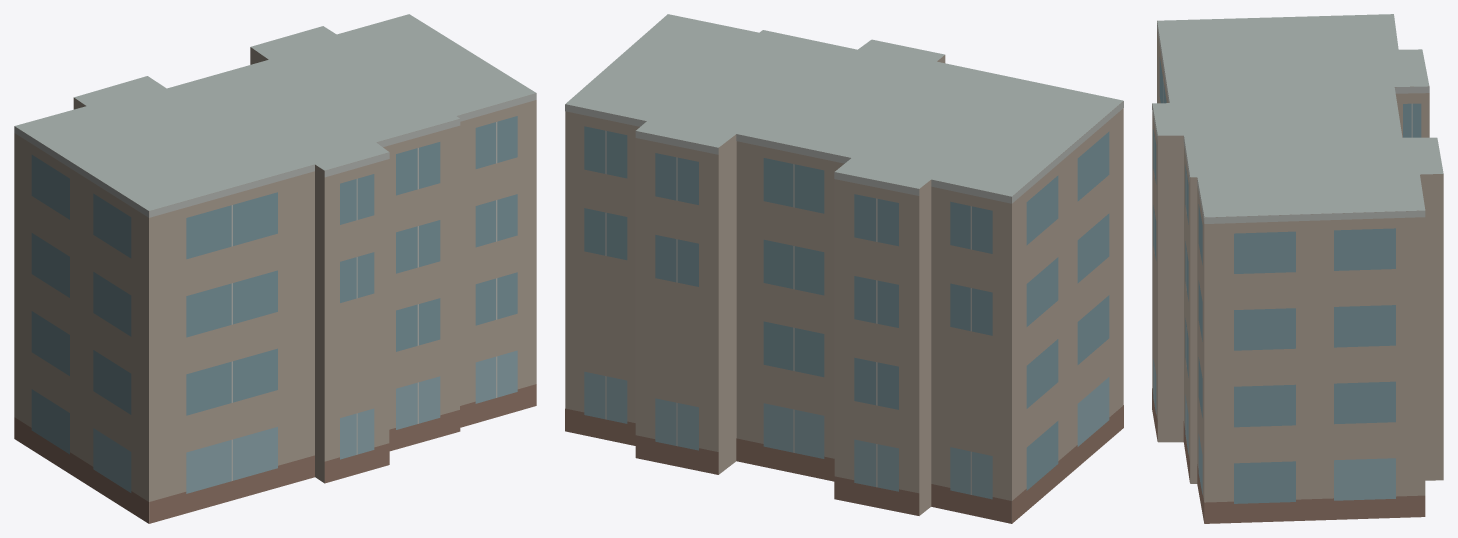
The model's file is survey-upis-32555869.glb.
3 views of the same model, side by side, from view 1: azimuth 30°, elevation 25°; view 2: azimuth 150°, elevation 25°; view 3: azimuth 270°, elevation 25° (orthographic). The views are drawn at different scales.
Visible parts, largest first — view 1: survey-upis-32555869.tmp; view 2: survey-upis-32555869.tmp; view 3: survey-upis-32555869.tmp.
Part boxes in pixels (x1=…): survey-upis-32555869.tmp: x1=14, y1=14, x2=536, y2=523; survey-upis-32555869.tmp: x1=565, y1=14, x2=1123, y2=523; survey-upis-32555869.tmp: x1=1152, y1=14, x2=1443, y2=523.
Size of the model in its own units: 15.99 by 11.22 by 9.68.
